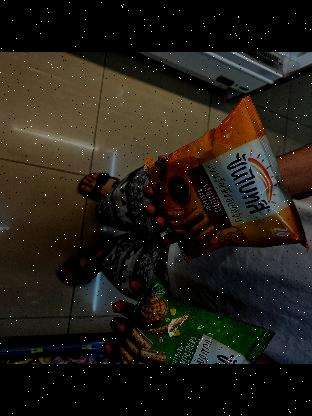Others: (146, 92, 312, 268), (102, 272, 276, 364)
